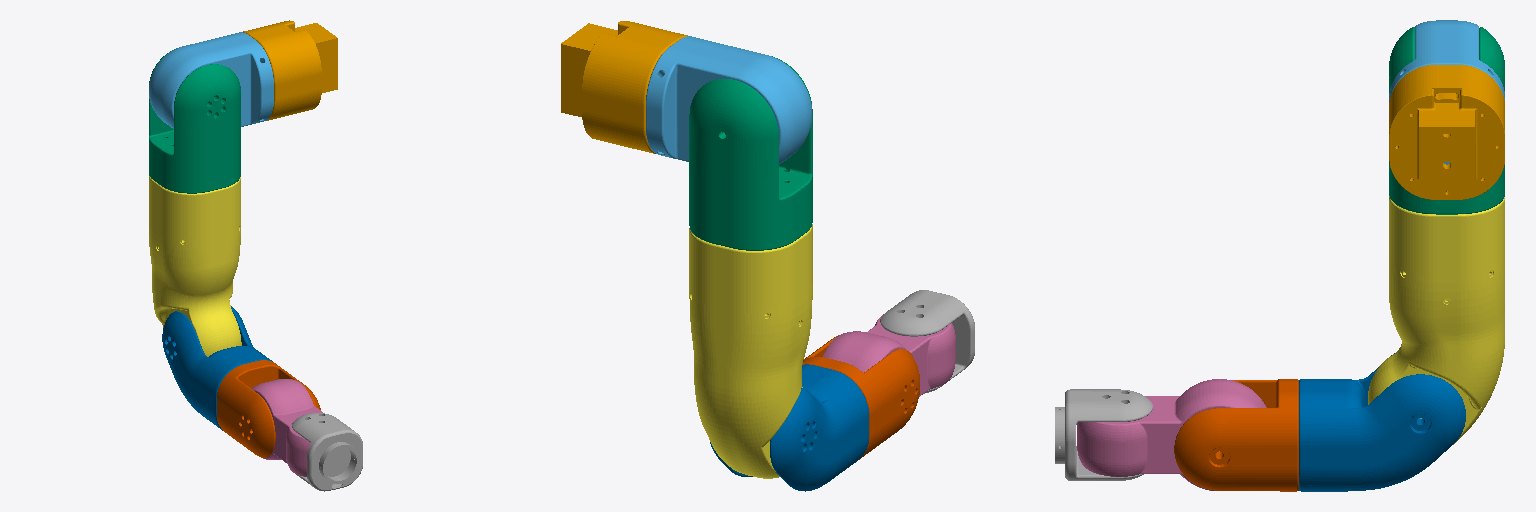
robot.urdf — right_urdf:
<?xml version='1.0' encoding='utf-8'?>
<robot name="right_urdf">
    <link name="base_link">
        <inertial>
            <origin xyz="-0.012533625342970488 -1.5680321766831598e-07 0.0010271164496856915" rpy="0.0 0.0 0.0" />
            <mass value="1.2" />
            <inertia ixx="0.005014510926809133" iyy="0.0034405364773489946" izz="0.0035752840363968107" ixy="2.108663373658868e-09" iyz="-2.504692908714312e-10" ixz="-0.00011069170495900822" />
        </inertial>
        <visual name="base_link_visual">
            <origin xyz="0.0 0.0 0.0" rpy="0.0 0.0 0.0" />
            <geometry>
                <mesh filename="meshes/base_link.stl" scale="0.001 0.001 0.001" />
            </geometry>
        </visual>
        <collision name="base_link_collision">
            <origin xyz="0.0 0.0 0.0" rpy="0.0 0.0 0.0" />
            <geometry>
                <mesh filename="meshes/base_link.stl" scale="0.001 0.001 0.001" />
            </geometry>
        </collision>
    </link>
    <link name="link_1">
        <inertial>
            <origin xyz="-0.0007577300081055296 0.09808198034339666 -0.0010590189627576506" rpy="0.0 -0.0 0.0" />
            <mass value="1.1" />
            <inertia ixx="0.007315845207817959" iyy="0.0051164047891151644" izz="0.00845359681614534" ixy="-7.443368484801678e-05" iyz="0.0001486478924168222" ixz="2.346403810084552e-06" />
        </inertial>
        <visual name="link_1_visual">
            <origin xyz="-7.105427357601002e-17 0.054500000000000014 -7.105427357601002e-17" rpy="1.570796326794897 -2.2175250527763805e-33 1.5707963267948966" />
            <geometry>
                <mesh filename="meshes/link_1.stl" scale="0.001 0.001 0.001" />
            </geometry>
        </visual>
        <collision name="link_1_collision">
            <origin xyz="-7.105427357601002e-17 0.054500000000000014 -7.105427357601002e-17" rpy="1.570796326794897 -2.2175250527763805e-33 1.5707963267948966" />
            <geometry>
                <mesh filename="meshes/link_1.stl" scale="0.001 0.001 0.001" />
            </geometry>
        </collision>
    </link>
    <link name="link_2">
        <inertial>
            <origin xyz="0.03437157767558235 -0.03938182416817611 9.452087555317235e-08" rpy="0.0 -0.0 0.0" />
            <mass value="1.0" />
            <inertia ixx="0.006754483492318747" iyy="0.00617610352955434" izz="0.00812013699004533" ixy="-0.00045722270074082915" iyz="-1.114329933708802e-08" ixz="-8.434797192299892e-09" />
        </inertial>
        <visual name="link_2_visual">
            <origin xyz="0.030000000000000037 -0.085 1.7763568394002505e-17" rpy="-1.5707963267948968 -1.5707963267948966 0" />
            <geometry>
                <mesh filename="meshes/link_2.stl" scale="0.001 0.001 0.001" />
            </geometry>
        </visual>
        <collision name="link_2_collision">
            <origin xyz="0.030000000000000037 -0.085 1.7763568394002505e-17" rpy="-1.5707963267948968 -1.5707963267948966 0" />
            <geometry>
                <mesh filename="meshes/link_2.stl" scale="0.001 0.001 0.001" />
            </geometry>
        </collision>
    </link>
    <link name="link_3">
        <inertial>
            <origin xyz="0.004395092699064552 0.0005474751799303412 -0.1511977931654306" rpy="0.0 -0.0 0.0" />
            <mass value="1.1" />
            <inertia ixx="0.03904698845555077" iyy="0.040115359819243024" izz="0.010758720389070664" ixy="-6.968444934488767e-05" iyz="0.00031851350436926107" ixz="0.002066666323604532" />
        </inertial>
        <visual name="link_3_visual">
            <origin xyz="3.552713678800501e-17 -1.4210854715202004e-16 -0.05200000000000007" rpy="4.2785231459821475e-32 -6.703971714890103e-17 3.141592653589793" />
            <geometry>
                <mesh filename="meshes/link_3.stl" scale="0.001 0.001 0.001" />
            </geometry>
        </visual>
        <collision name="link_3_collision">
            <origin xyz="3.552713678800501e-17 -1.4210854715202004e-16 -0.05200000000000007" rpy="4.2785231459821475e-32 -6.703971714890103e-17 3.141592653589793" />
            <geometry>
                <mesh filename="meshes/link_3.stl" scale="0.001 0.001 0.001" />
            </geometry>
        </collision>
    </link>
    <link name="link_4">
        <inertial>
            <origin xyz="0.042422675965205235 -0.024579115096492216 0.032060099721970804" rpy="0.0 -0.0 0.0" />
            <mass value="0.6" />
            <inertia ixx="0.00542438122180483" iyy="0.006684740466914342" izz="0.006061694661111117" ixy="0.00114449062757397" iyz="-0.00012017935534973379" ixz="0.0002092467502519714" />
        </inertial>
        <visual name="link_4_visual">
            <origin xyz="0.11535533905935275 -0.03535533905932695 0.030000000000000568" rpy="-1.5707963267948966 -1.5707963267948966 0" />
            <geometry>
                <mesh filename="meshes/link_4.stl" scale="0.001 0.001 0.001" />
            </geometry>
        </visual>
        <collision name="link_4_collision">
            <origin xyz="0.11535533905935275 -0.03535533905932695 0.030000000000000568" rpy="-1.5707963267948966 -1.5707963267948966 0" />
            <geometry>
                <mesh filename="meshes/link_4.stl" scale="0.001 0.001 0.001" />
            </geometry>
        </collision>
    </link>
    <link name="link_5">
        <inertial>
            <origin xyz="0.10521626622593327 -2.016195566056922e-08 0.003611104844285933" rpy="0.0 -0.0 0.0" />
            <mass value="0.5" />
            <inertia ixx="0.0030795074047825777" iyy="0.003893924414522118" izz="0.0028019236878646936" ixy="2.7504094834984727e-10" iyz="7.424066778005667e-10" ixz="-0.00019307607425132073" />
        </inertial>
        <visual name="link_5_visual">
            <origin xyz="0.06099999905935289 -6.679687203359208e-09 7.815970093361102e-16" rpy="-1.5707963267948966 -1.5707963267948966 0" />
            <geometry>
                <mesh filename="meshes/link_5.stl" scale="0.001 0.001 0.001" />
            </geometry>
        </visual>
        <collision name="link_5_collision">
            <origin xyz="0.06099999905935289 -6.679687203359208e-09 7.815970093361102e-16" rpy="-1.5707963267948966 -1.5707963267948966 0" />
            <geometry>
                <mesh filename="meshes/link_5.stl" scale="0.001 0.001 0.001" />
            </geometry>
        </collision>
    </link>
    <link name="link_6">
        <inertial>
            <origin xyz="-0.0005325190073892827 0.03067885578774378 -0.038524468591775975" rpy="7.699667965537206e-96 -0.0 0.0" />
            <mass value="0.8" />
            <inertia ixx="0.0008284102122273727" iyy="0.0008695542211465332" izz="0.00029489591400612414" ixy="-8.670206763997101e-08" iyz="-5.1893835480675e-06" ixz="-6.730198466465415e-06" />
        </inertial>
        <visual name="link_6_visual">
            <origin xyz="3.3203128424474925e-09 0.02999999999999911 9.406469558825848e-10" rpy="-1.5707963267948961 -9.744164592262758e-32 -1.5707963267948966" />
            <geometry>
                <mesh filename="meshes/link_6.stl" scale="0.001 0.001 0.001" />
            </geometry>
        </visual>
        <collision name="link_6_collision">
            <origin xyz="3.3203128424474925e-09 0.02999999999999911 9.406469558825848e-10" rpy="-1.5707963267948961 -9.744164592262758e-32 -1.5707963267948966" />
            <geometry>
                <mesh filename="meshes/link_6.stl" scale="0.001 0.001 0.001" />
            </geometry>
        </collision>
    </link>
    <link name="link_end">
        <inertial>
            <origin xyz="0.024994640599820386 -1.3210838016419758e-07 -0.03023284587268883" rpy="0.0 -0.0 0.0" />
            <mass value="0.2" />
            <inertia ixx="0.00011276710451101936" iyy="0.00013629674075110038" izz="9.292999199580175e-05" ixy="-5.111632549528733e-10" iyz="-5.80433538038827e-10" ixz="-6.419239937570376e-06" />
        </inertial>
        <visual name="link_end_visual">
            <origin xyz="-0.04000000094064852 7.283063041541027e-16 -0.027500003320312844" rpy="3.141592653589793 3.15852510879507e-32 1.5707963267948966" />
            <geometry>
                <mesh filename="meshes/link_end.stl" scale="0.001 0.001 0.001" />
            </geometry>
        </visual>
        <collision name="link_end_collision">
            <origin xyz="-0.04000000094064852 7.283063041541027e-16 -0.027500003320312844" rpy="3.141592653589793 3.15852510879507e-32 1.5707963267948966" />
            <geometry>
                <mesh filename="meshes/link_end.stl" scale="0.001 0.001 0.001" />
            </geometry>
        </collision>
    </link>
    <joint name="joint_1" type="revolute">
        <origin xyz="-0.015000000000000006 2.6645352591003753e-17 1.3322676295501869e-17" rpy="1.5707963267948966 -1.5707963267948961 0" />
        <parent link="base_link" />
        <child link="link_1" />
        <axis xyz="0.0 -1.0 -2.1155728675403147e-49" />
        <limit lower="-3.141592653589793" upper="3.141592653589793" effort="50" velocity="2.0" />
    </joint>
    <joint name="joint_2" type="revolute">
        <origin xyz="-1.642146637880645e-49 0.13949999999999999 -0.03" rpy="-1.5707963267948966 -1.5707963267948966 0" />
        <parent link="link_1" />
        <child link="link_2" />
        <axis xyz="-1.0 0.0 -3.175835427256606e-32" />
        <limit lower="-3.141592653589793" upper="3.141592653589793" effort="50" velocity="2.0" />
    </joint>
    <joint name="joint_3" type="revolute">
        <origin xyz="0.03 -0.065 0.0" rpy="-1.5707963267948966 -0.0 0.0" />
        <parent link="link_2" />
        <child link="link_3" />
        <axis xyz="0.0 0.0 1.0" />
        <limit lower="-3.141592653589793" upper="3.141592653589793" effort="50" velocity="2.0" />
    </joint>
    <joint name="joint_4" type="revolute">
        <origin xyz="0.025 0.03 -0.272" rpy="1.5707963267948966 -0.0 -1.754545230374717e-32" />
        <parent link="link_3" />
        <child link="link_4" />
        <axis xyz="-1.754545230374717e-32 0.0 -1.0" />
        <limit lower="-3.141592653589793" upper="3.141592653589793" effort="50" velocity="2.0" />
    </joint>
    <joint name="joint_5" type="revolute">
        <origin xyz="0.054355339999999995 -0.035355339999999985 0.03" rpy="-9.860761315262648e-32 1.7545452303747168e-32 0.0" />
        <parent link="link_4" />
        <child link="link_5" />
        <axis xyz="-1.0 0.0 -5.205490324089919e-32" />
        <limit lower="-3.141592653589793" upper="3.141592653589793" effort="50" velocity="2.0" />
    </joint>
    <joint name="joint_6" type="revolute">
        <origin xyz="0.13599999999999998 -9.999999974752428e-09 0.03" rpy="-1.5707963267948966 -0.0 1.5707963267948966" />
        <parent link="link_5" />
        <child link="link_6" />
        <axis xyz="9.860761315262648e-32 1.0 -2.4651903288156657e-32" />
        <limit lower="-3.141592653589793" upper="3.141592653589793" effort="50" velocity="2.0" />
    </joint>
    <joint name="joint_7" type="revolute">
        <origin xyz="-0.0275 0.03 -0.095" rpy="-3.141592653589793 1.5707963267948966 0" />
        <parent link="link_6" />
        <child link="link_end" />
        <axis xyz="0.0 7.703719777548943e-34 1.0" />
        <limit lower="-3.141592653589793" upper="3.141592653589793" effort="50" velocity="2.0" />
    </joint>
</robot>

--- Facts derived from the render (not from the file) ---
The picture shows the robot from 3 angles, left to right: view 1: azimuth 30°, elevation 25°; view 2: azimuth 150°, elevation 25°; view 3: azimuth 270°, elevation 25°; orthographic projection.
Robot: right_urdf — 8 links, 7 joints (7 revolute); root link base_link; default pose: all joints at 0.
Visible links, largest first — view 1: link_3, link_2, link_1, base_link, link_4, link_5, link_end, link_6; view 2: link_3, link_2, link_1, base_link, link_4, link_5, link_6, link_end; view 3: link_3, link_4, base_link, link_5, link_6, link_end, link_2, link_1.
Link boxes in pixels (box(x1,y1,x2,y2)): link_3: box(149, 176, 241, 356); link_2: box(149, 48, 240, 193); link_1: box(149, 32, 273, 128); base_link: box(243, 20, 337, 120); link_4: box(162, 306, 272, 430); link_5: box(217, 360, 320, 457); link_end: box(292, 413, 362, 491); link_6: box(252, 379, 322, 476); link_3: box(689, 224, 812, 478); link_2: box(689, 56, 812, 250); link_1: box(646, 36, 811, 164); base_link: box(561, 21, 687, 153); link_4: box(710, 364, 868, 491); link_5: box(803, 335, 919, 459); link_6: box(823, 315, 955, 396); link_end: box(880, 290, 974, 393); link_3: box(1368, 196, 1504, 444); link_4: box(1299, 353, 1465, 491); base_link: box(1389, 65, 1504, 199); link_5: box(1174, 379, 1298, 491); link_6: box(1077, 379, 1266, 490); link_end: box(1055, 389, 1152, 480); link_2: box(1389, 27, 1504, 214); link_1: box(1389, 20, 1504, 164).
Bounding box of the posed robot: 0.249 × 0.4264 × 0.4774 m (x, y, z).
8 mesh visuals loaded from 8 distinct referenced files (8 binary STL).
